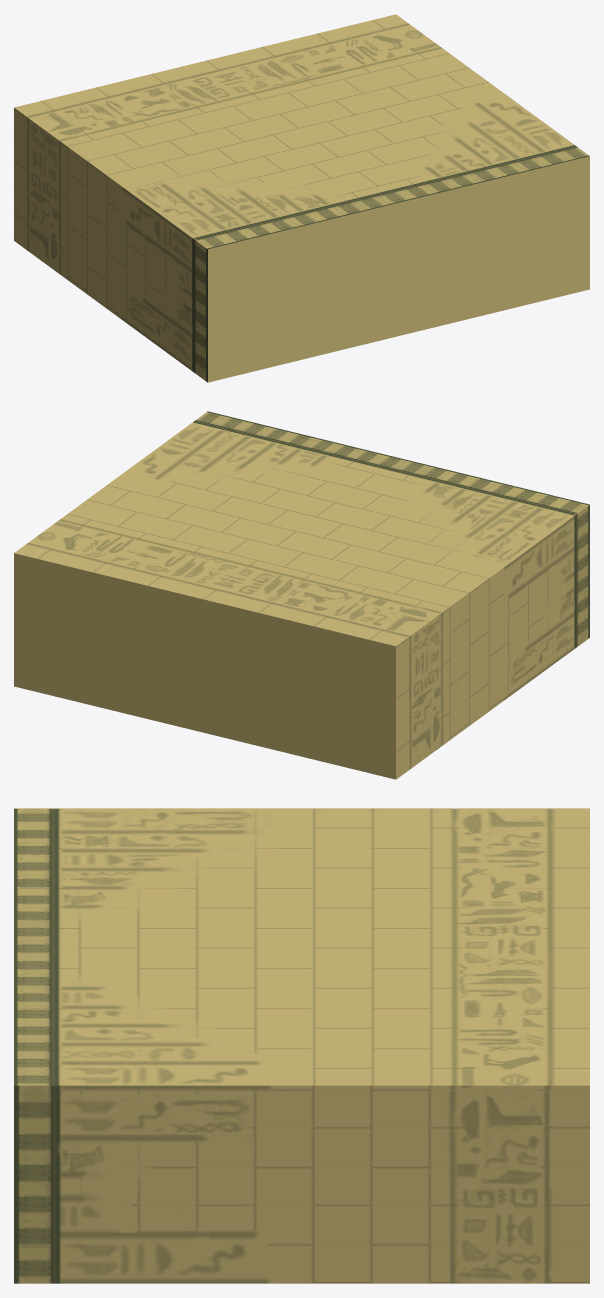
The model's file is Wand_Normal.fbx.
3 renders of one model, top to bottom at view 1: azimuth 30°, elevation 25°; view 2: azimuth 150°, elevation 25°; view 3: azimuth 270°, elevation 25°, orthographic. The views are drawn at different scales.
Parts seen in each view (by area): view 1: Cube; view 2: Cube; view 3: Cube.
Boxes of the visible parts, box(x1,y1,x2,y2) form: Cube: box(14, 14, 589, 382); Cube: box(14, 411, 589, 779); Cube: box(14, 808, 589, 1283).
Size of the model in its own units: 2.28 by 0.7587 by 2.
1 material, 1 textured.
